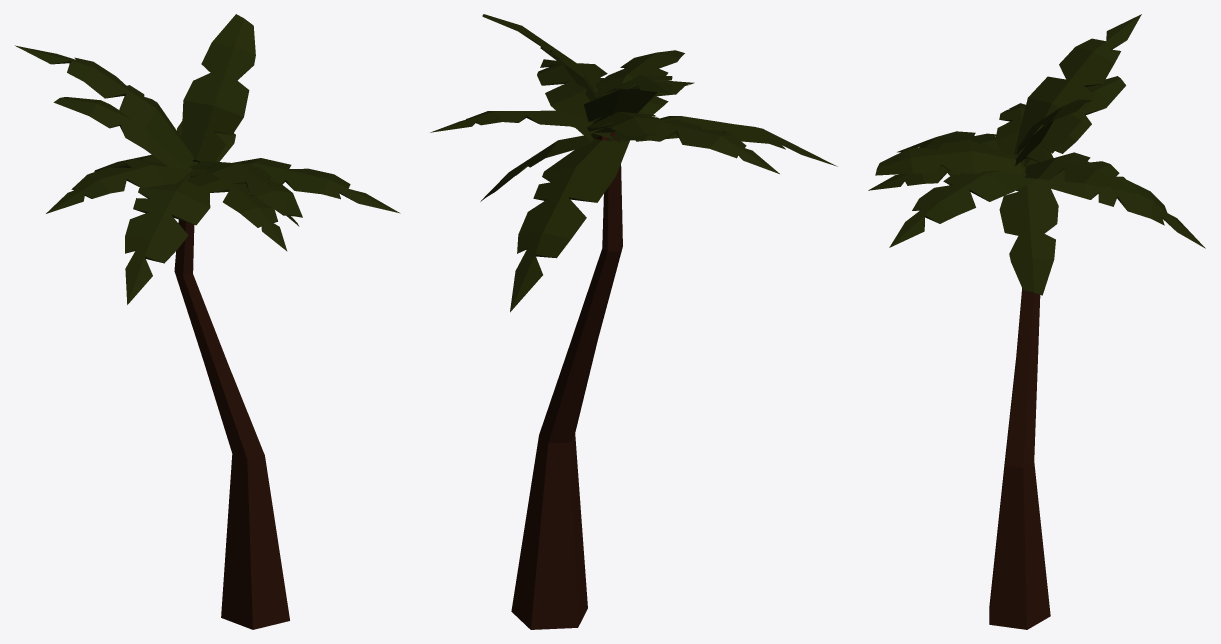
The model's file is PalmTree3.fbx.glb.
3 views of the same model, side by side, from view 1: azimuth 30°, elevation 25°; view 2: azimuth 150°, elevation 25°; view 3: azimuth 270°, elevation 25° (orthographic). The views are drawn at different scales.
Visible parts, largest first — view 1: PalmTree3; view 2: PalmTree3; view 3: PalmTree3.
Part boxes in pixels (bbox=[...]): PalmTree3: bbox=[15, 14, 400, 629]; PalmTree3: bbox=[430, 14, 837, 629]; PalmTree3: bbox=[868, 14, 1205, 629].
Bounding box in the file's own units: 273 × 518 × 303.
